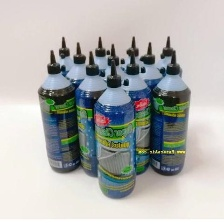cleaning_solution: (90, 56, 140, 200), (35, 46, 82, 176), (146, 47, 192, 179), (113, 48, 156, 180), (74, 48, 109, 181), (131, 38, 167, 153), (61, 40, 95, 151), (149, 34, 185, 123), (98, 40, 130, 131), (82, 34, 112, 122), (47, 35, 78, 119), (120, 35, 147, 111)
